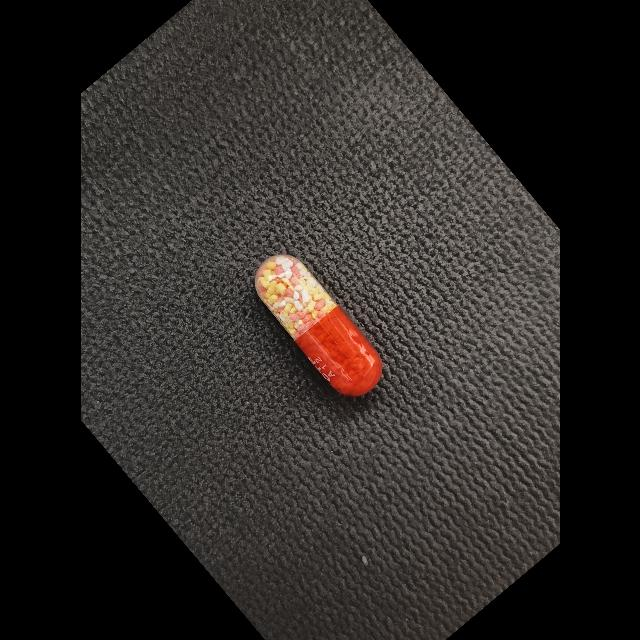Intact Capsule: (254, 254, 382, 396)
